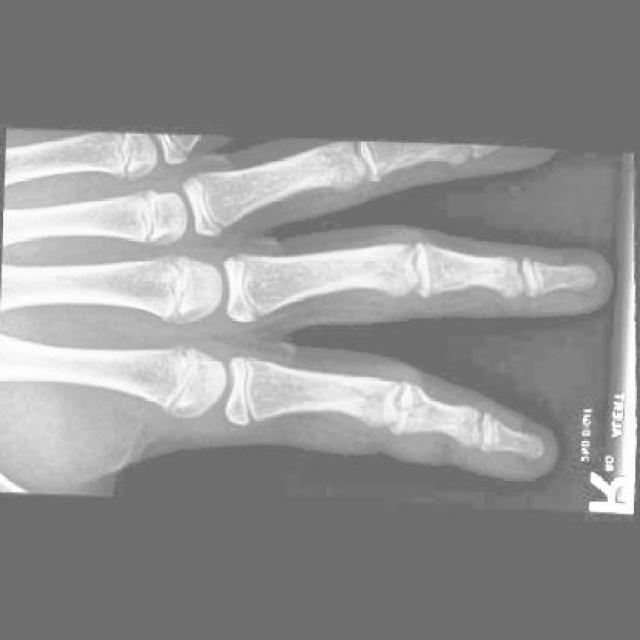Fracture: (391, 377, 436, 423)
